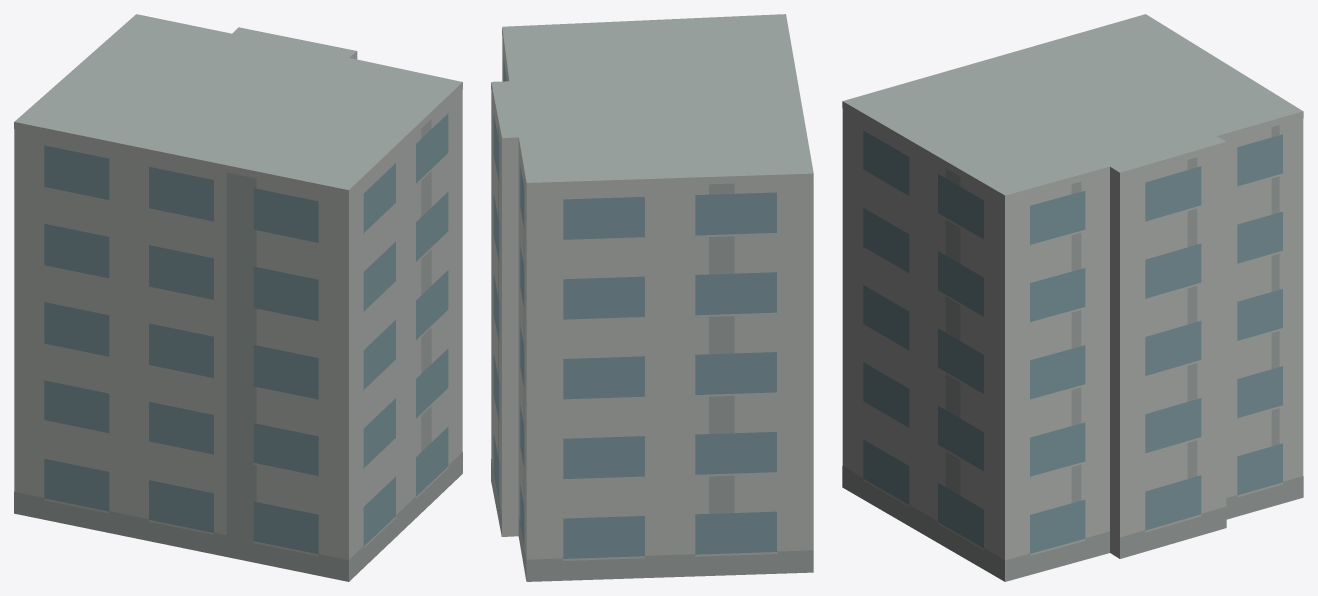
The model's file is survey-upis-33013232.glb.
3 views of the same model, side by side, from view 1: azimuth 30°, elevation 25°; view 2: azimuth 150°, elevation 25°; view 3: azimuth 270°, elevation 25° (orthographic). The views are drawn at different scales.
Parts seen in each view (by area): view 1: survey-upis-33013232.tmp; view 2: survey-upis-33013232.tmp; view 3: survey-upis-33013232.tmp.
Boxes of the visible parts, x1=… form: survey-upis-33013232.tmp: x1=14, y1=14, x2=462, y2=581; survey-upis-33013232.tmp: x1=491, y1=14, x2=813, y2=581; survey-upis-33013232.tmp: x1=842, y1=14, x2=1303, y2=581.
Size of the model in its own units: 13.41 by 13.3 by 14.39.
